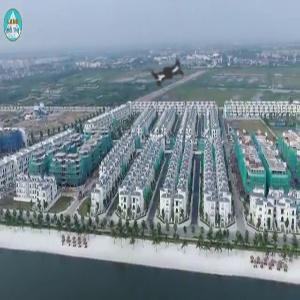drone: (130, 33, 213, 116)
